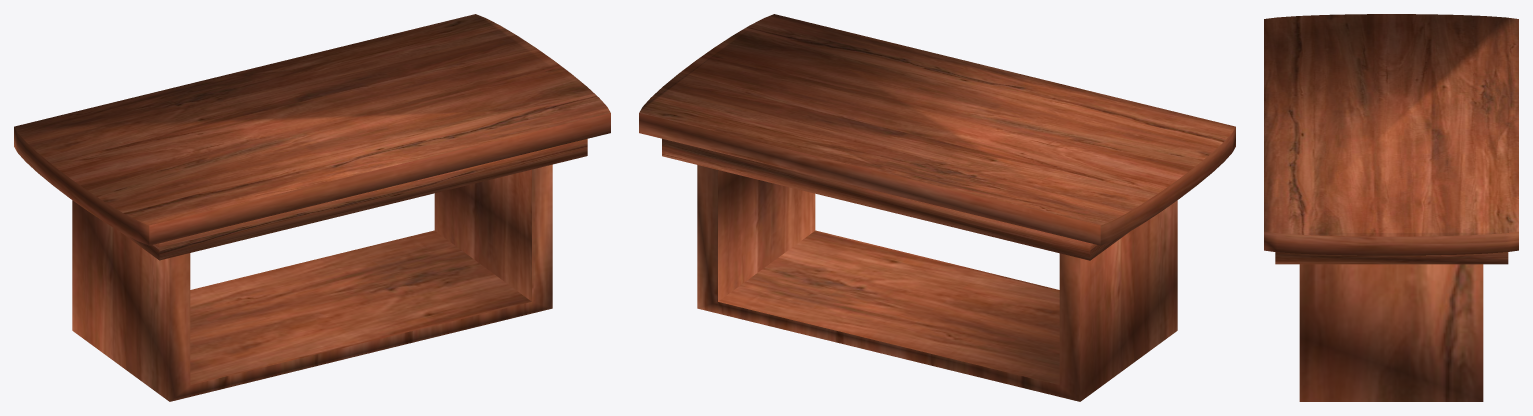
Rendered from CoffeeTable_Captain.obj.
3 renders of one model, left to right at view 1: azimuth 30°, elevation 25°; view 2: azimuth 150°, elevation 25°; view 3: azimuth 270°, elevation 25°, orthographic. The views are drawn at different scales.
Parts seen in each view (by area): view 1: CoffeeTable_Captain.obj; view 2: CoffeeTable_Captain.obj; view 3: CoffeeTable_Captain.obj.
Part boxes in pixels (x1,y1,x2,y2): CoffeeTable_Captain.obj: (14, 14, 610, 401); CoffeeTable_Captain.obj: (639, 14, 1235, 401); CoffeeTable_Captain.obj: (1264, 14, 1518, 401).
Bounding box in the file's own units: 11.34 × 4.48 × 5.49.
